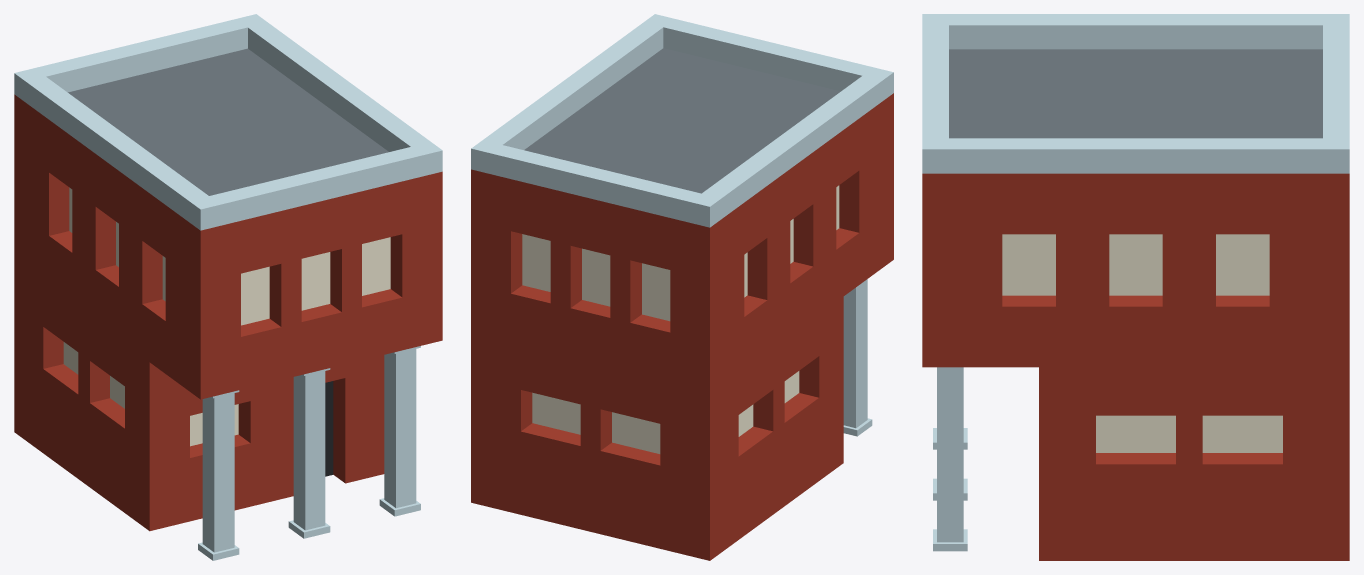
The model's file is Building_7 (Red).obj.
3 views of the same model, side by side, from view 1: azimuth 30°, elevation 25°; view 2: azimuth 150°, elevation 25°; view 3: azimuth 270°, elevation 25° (orthographic). The views are drawn at different scales.
Parts seen in each view (by area): view 1: Building_7_(Red); view 2: Building_7_(Red); view 3: Building_7_(Red).
Part boxes in pixels (box(x1,y1,x2,y2)): Building_7_(Red): box(14, 14, 442, 560); Building_7_(Red): box(471, 14, 893, 560); Building_7_(Red): box(922, 14, 1349, 560).
Size of the model in its own units: 1.2 by 1.7 by 1.6.
